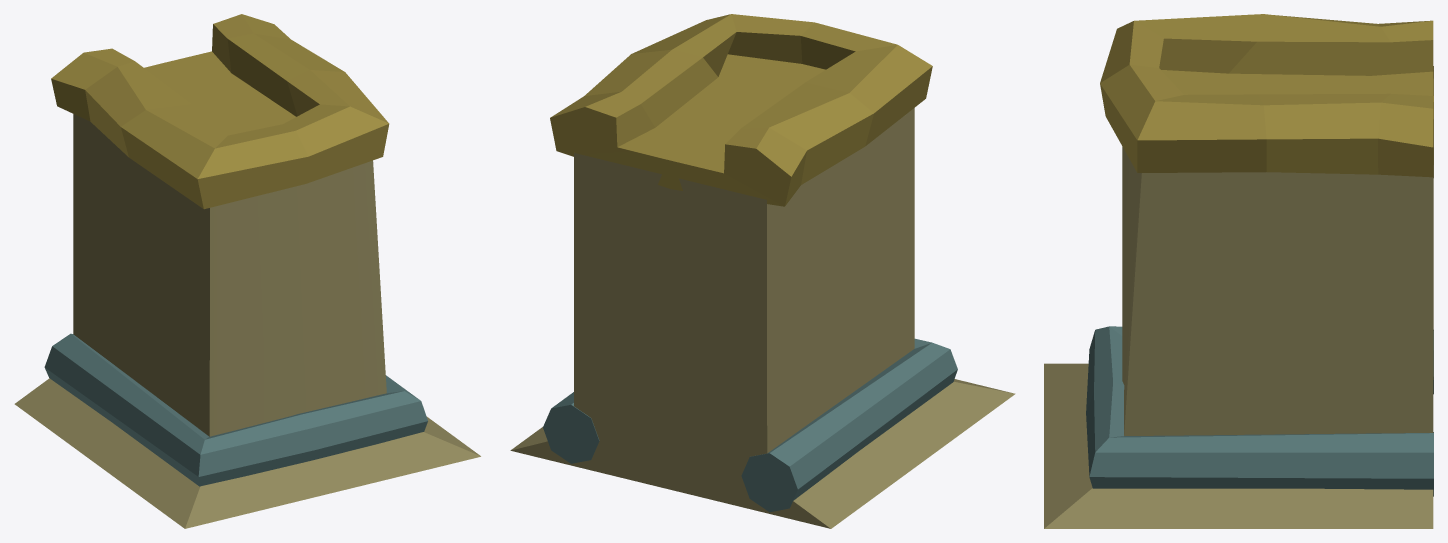
Rendered from Int_16_Wall_Vert_End_Up.fbx.
The picture shows the model from 3 angles, left to right: view 1: azimuth 30°, elevation 25°; view 2: azimuth 150°, elevation 25°; view 3: azimuth 270°, elevation 25°; orthographic projection. The views are drawn at different scales.
Visible parts, largest first — view 1: Int_16_Wall_Vert_End_Up; view 2: Int_16_Wall_Vert_End_Up; view 3: Int_16_Wall_Vert_End_Up.
Part boxes in pixels (x1=…): Int_16_Wall_Vert_End_Up: x1=14, y1=14, x2=480, y2=528; Int_16_Wall_Vert_End_Up: x1=510, y1=14, x2=1015, y2=528; Int_16_Wall_Vert_End_Up: x1=1044, y1=14, x2=1433, y2=528.
Size of the model in its own units: 1 by 1.08 by 0.9986.
